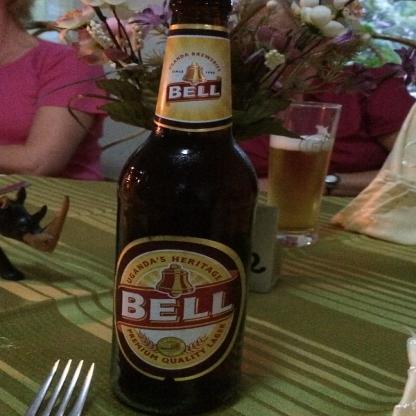drinking: (113, 0, 259, 415), (263, 100, 342, 246)
